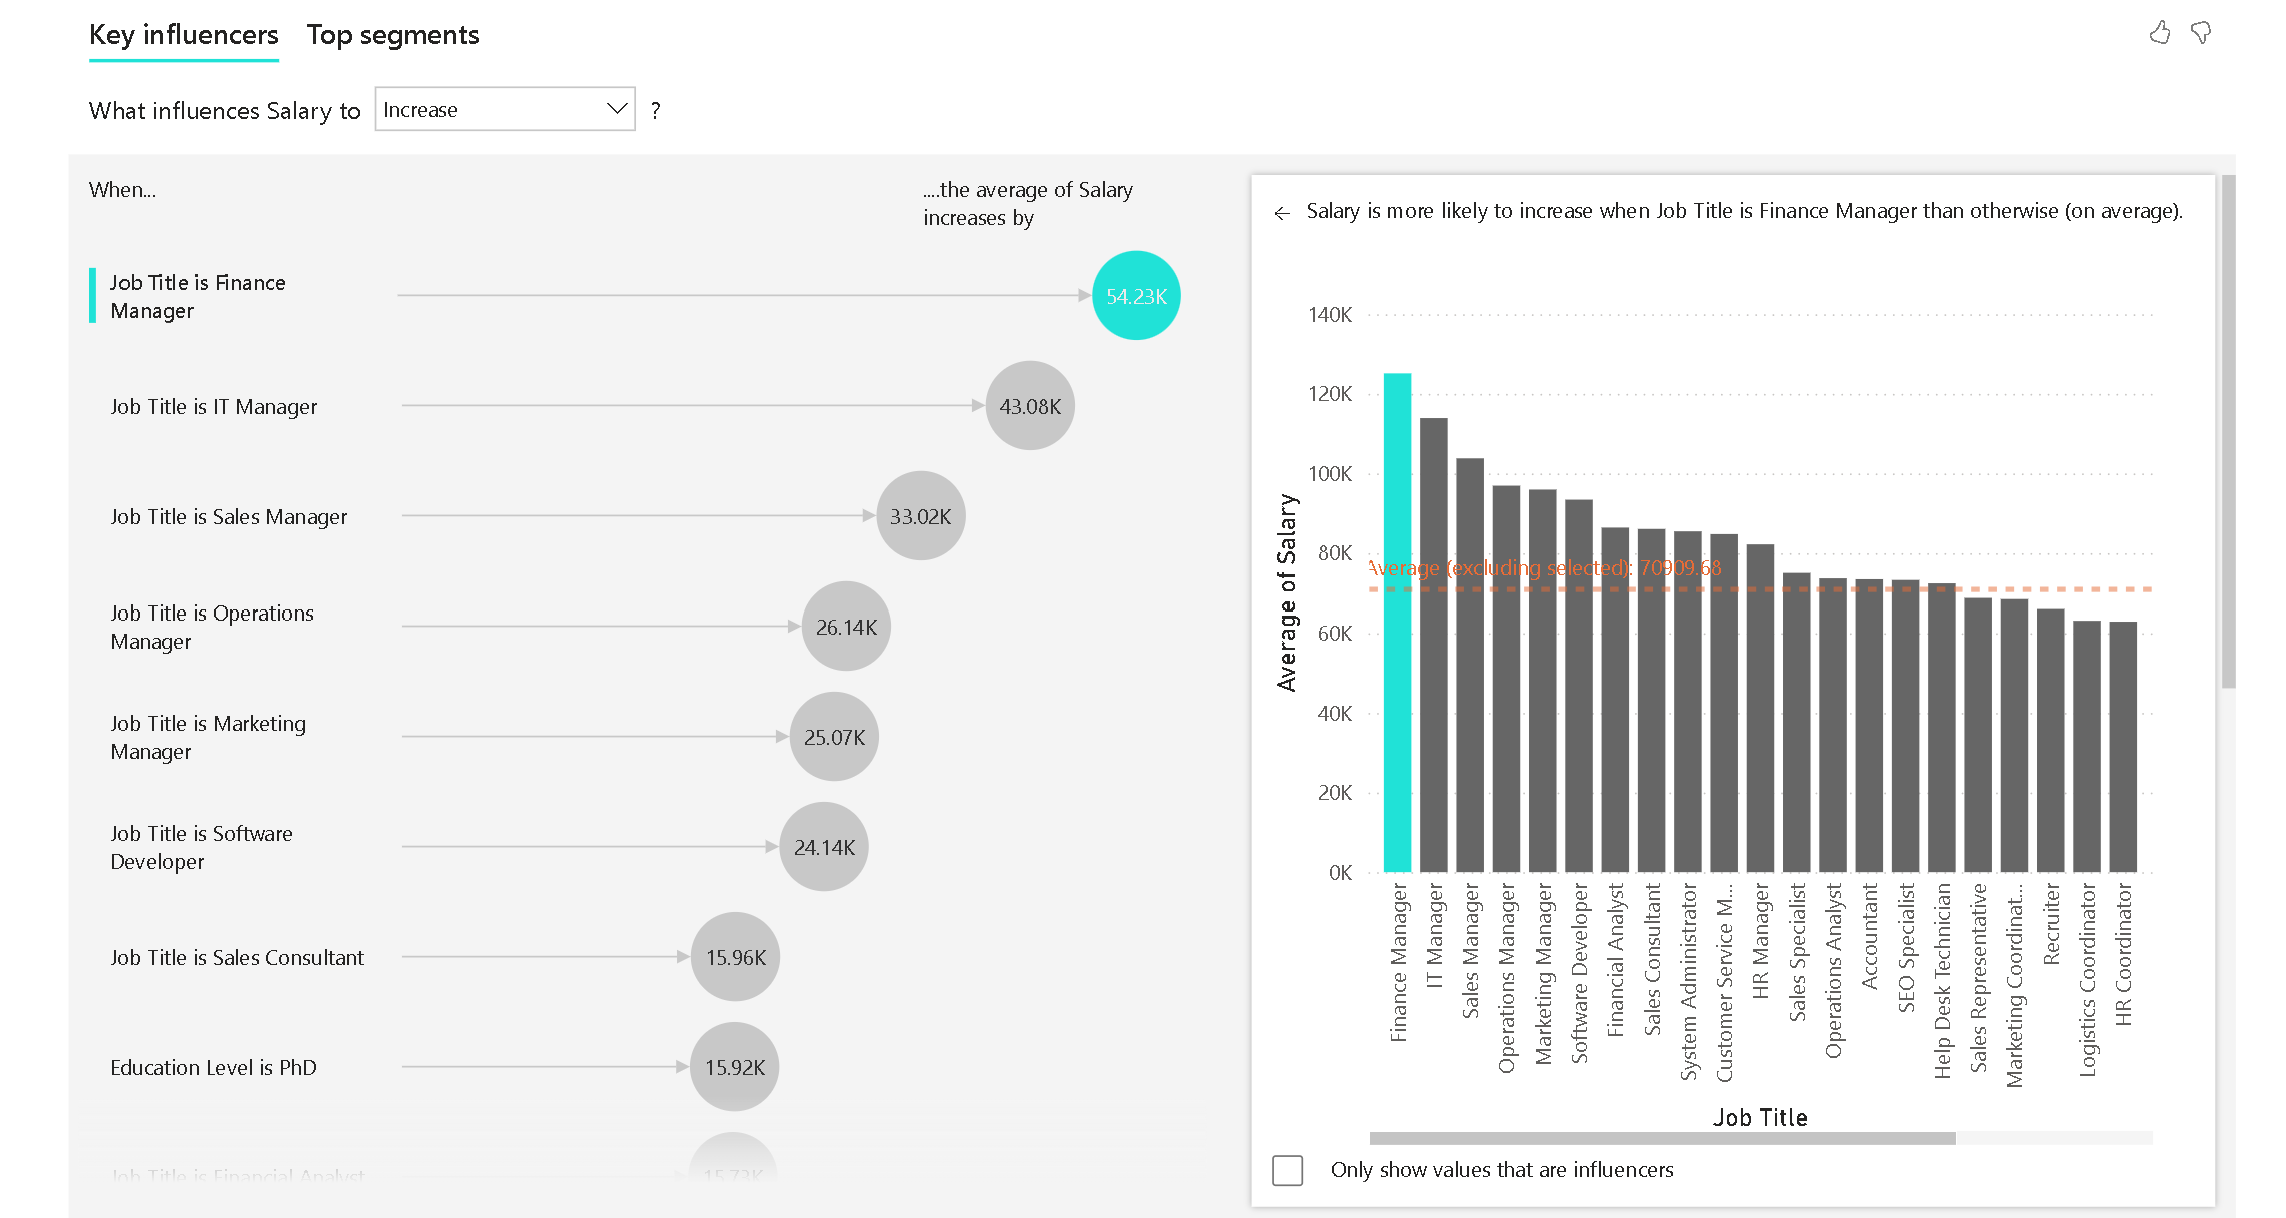

This screenshot's page, from the dashboard's own definition file:
{"tool":"powerbi","page":{"name":"Key Influencers","canvas":[1280,720],"ordinal":5},"visuals":[{"type":"keyDriversVisual","fields":{"Target":["HumanResources.Salary"],"ExplainBy":["HumanResources.Department","HumanResources.City","HumanResources.Education Level","HumanResources.Gender","HumanResources.Job Title","HumanResources.State","HumanResources.Performance Rating"]},"box":[9.7,0,1270.3,719.4],"z":0}]}

Visuals, with their boxes on the page's 1280x720 design canvas (x1, y1, x2, y2). These are canvas units, not pixel positions in the 2286x1218 screenshot, which may show the page scaled, cropped or inside an application window:
keyDriversVisual - HumanResources.Salary x HumanResources.Department: (left=10, top=0, right=1280, bottom=719)
